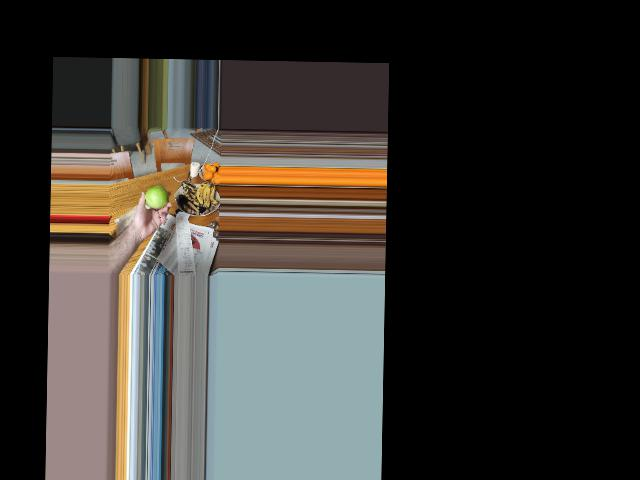apple: (144, 184, 170, 211)
